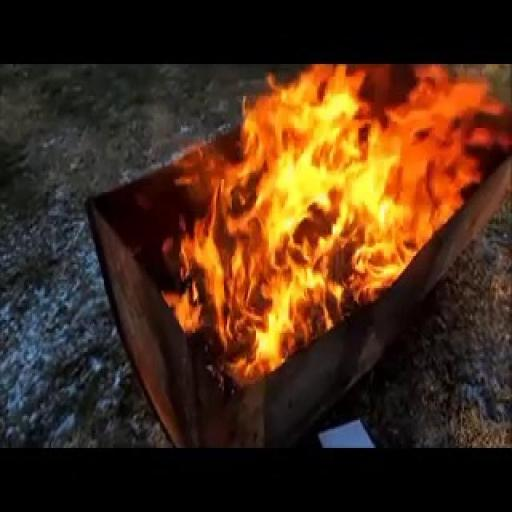smoke: (168, 68, 474, 390)
